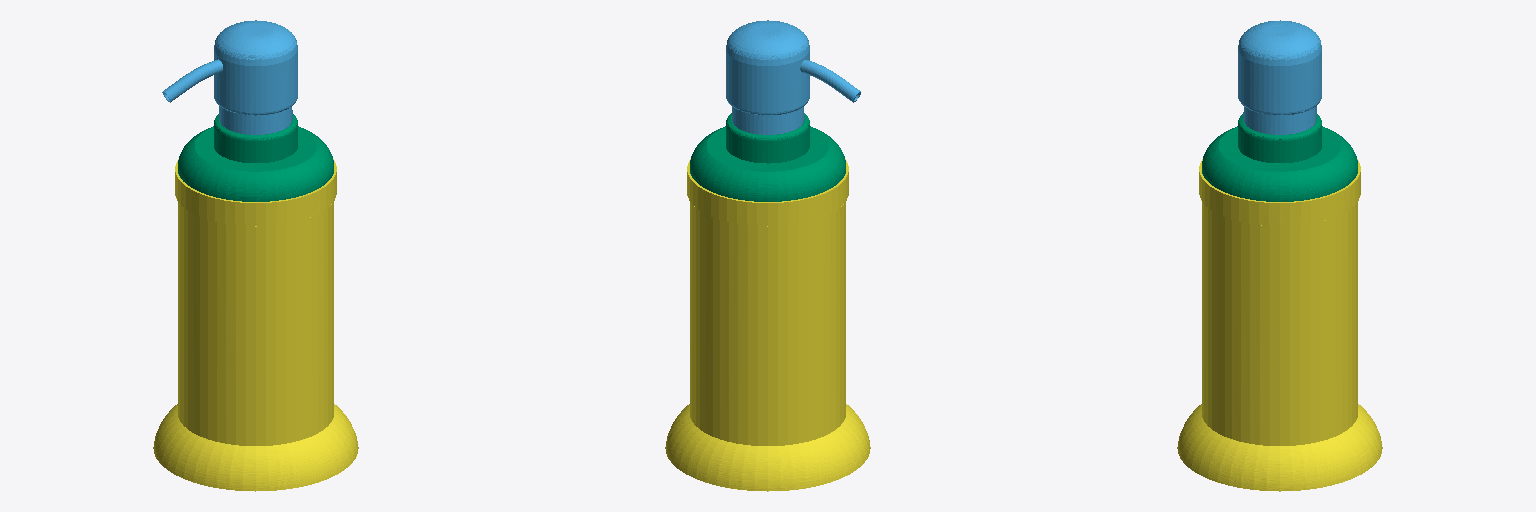
robot.urdf — partnet_0d1d667f-1098-4221-8241-25ae8246c215-2:
<?xml version="1.0" ?>
<robot name="partnet_0d1d667f-1098-4221-8241-25ae8246c215-2">
	<link name="base"/>
	<link name="link_0">
		<visual name="pressing_lid-1">
			<origin xyz="0.0028717371246910713 0 0.00630403397115821"/>
			<geometry>
				<mesh filename="textured_objs/original_10.obj"/>
			</geometry>
		</visual>
		<visual name="pressing_lid-1">
			<origin xyz="0.0028717371246910713 0 0.00630403397115821"/>
			<geometry>
				<mesh filename="textured_objs/original_15.obj"/>
			</geometry>
		</visual>
		<visual name="pressing_lid-1">
			<origin xyz="0.0028717371246910713 0 0.00630403397115821"/>
			<geometry>
				<mesh filename="textured_objs/original_16.obj"/>
			</geometry>
		</visual>
		<collision>
			<origin xyz="0.0028717371246910713 0 0.00630403397115821"/>
			<geometry>
				<mesh filename="textured_objs/original_10.obj"/>
			</geometry>
		</collision>
		<collision>
			<origin xyz="0.0028717371246910713 0 0.00630403397115821"/>
			<geometry>
				<mesh filename="textured_objs/original_15.obj"/>
			</geometry>
		</collision>
		<collision>
			<origin xyz="0.0028717371246910713 0 0.00630403397115821"/>
			<geometry>
				<mesh filename="textured_objs/original_16.obj"/>
			</geometry>
		</collision>
	</link>
	<joint name="joint_0" type="continuous">
		<origin xyz="0.0 0 0.0"/>
		<axis xyz="0 1 0"/>
		<child link="link_0"/>
		<parent link="link_0_helper"/>
	</joint>
	<link name="link_1">
		<visual name="head-3">
			<origin xyz="0.0028717371246910713 0 0.00630403397115821"/>
			<geometry>
				<mesh filename="textured_objs/original_13.obj"/>
			</geometry>
		</visual>
		<visual name="head-3">
			<origin xyz="0.0028717371246910713 0 0.00630403397115821"/>
			<geometry>
				<mesh filename="textured_objs/original_11.obj"/>
			</geometry>
		</visual>
		<collision>
			<origin xyz="0.0028717371246910713 0 0.00630403397115821"/>
			<geometry>
				<mesh filename="textured_objs/original_13.obj"/>
			</geometry>
		</collision>
		<collision>
			<origin xyz="0.0028717371246910713 0 0.00630403397115821"/>
			<geometry>
				<mesh filename="textured_objs/original_11.obj"/>
			</geometry>
		</collision>
	</link>
	<joint name="joint_1" type="continuous">
		<origin xyz="0.0 0 0.0"/>
		<axis xyz="0 1 0"/>
		<child link="link_1"/>
		<parent link="link_1_helper"/>
	</joint>
	<link name="link_2">
		<visual name="base_body-4">
			<origin xyz="0 0 0"/>
			<geometry>
				<mesh filename="textured_objs/original_4.obj"/>
			</geometry>
		</visual>
		<visual name="base_body-4">
			<origin xyz="0 0 0"/>
			<geometry>
				<mesh filename="textured_objs/original_3.obj"/>
			</geometry>
		</visual>
		<visual name="base_body-4">
			<origin xyz="0 0 0"/>
			<geometry>
				<mesh filename="textured_objs/original_2.obj"/>
			</geometry>
		</visual>
		<visual name="base_body-4">
			<origin xyz="0 0 0"/>
			<geometry>
				<mesh filename="textured_objs/original_8.obj"/>
			</geometry>
		</visual>
		<visual name="base_body-4">
			<origin xyz="0 0 0"/>
			<geometry>
				<mesh filename="textured_objs/original_6.obj"/>
			</geometry>
		</visual>
		<visual name="base_body-4">
			<origin xyz="0 0 0"/>
			<geometry>
				<mesh filename="textured_objs/original_12.obj"/>
			</geometry>
		</visual>
		<visual name="base_body-4">
			<origin xyz="0 0 0"/>
			<geometry>
				<mesh filename="textured_objs/original_7.obj"/>
			</geometry>
		</visual>
		<collision>
			<origin xyz="0 0 0"/>
			<geometry>
				<mesh filename="textured_objs/original_4.obj"/>
			</geometry>
		</collision>
		<collision>
			<origin xyz="0 0 0"/>
			<geometry>
				<mesh filename="textured_objs/original_3.obj"/>
			</geometry>
		</collision>
		<collision>
			<origin xyz="0 0 0"/>
			<geometry>
				<mesh filename="textured_objs/original_2.obj"/>
			</geometry>
		</collision>
		<collision>
			<origin xyz="0 0 0"/>
			<geometry>
				<mesh filename="textured_objs/original_8.obj"/>
			</geometry>
		</collision>
		<collision>
			<origin xyz="0 0 0"/>
			<geometry>
				<mesh filename="textured_objs/original_6.obj"/>
			</geometry>
		</collision>
		<collision>
			<origin xyz="0 0 0"/>
			<geometry>
				<mesh filename="textured_objs/original_12.obj"/>
			</geometry>
		</collision>
		<collision>
			<origin xyz="0 0 0"/>
			<geometry>
				<mesh filename="textured_objs/original_7.obj"/>
			</geometry>
		</collision>
	</link>
	<joint name="joint_2" type="fixed">
		<origin rpy="1.570796326794897 0 -1.570796326794897" xyz="0 0 0"/>
		<child link="link_2"/>
		<parent link="base"/>
	</joint>
	<link name="link_0_helper">
		<inertial>
			<origin xyz="0 0 0"/>
			<mass value="1e-6"/>
			<inertia ixx="1e-10" ixy="0" ixz="0" iyy="1e-10" iyz="0" izz="1e-10"/>
		</inertial>
	</link>
	<joint name="joint_3" type="prismatic">
		<origin xyz="0.0 0 0.0"/>
		<axis xyz="0 -1 0"/>
		<child link="link_0_helper"/>
		<parent link="link_1"/>
		<limit lower="0" upper="0.1"/>
	</joint>
	<link name="link_1_helper">
		<inertial>
			<origin xyz="0 0 0"/>
			<mass value="1e-6"/>
			<inertia ixx="1e-10" ixy="0" ixz="0" iyy="1e-10" iyz="0" izz="1e-10"/>
		</inertial>
	</link>
	<joint name="joint_4" type="prismatic">
		<origin xyz="-0.0028717371246910713 0 -0.00630403397115821"/>
		<axis xyz="0 1 0"/>
		<child link="link_1_helper"/>
		<parent link="link_2"/>
		<limit lower="0" upper="0.01"/>
	</joint>
</robot>

--- What the picture shows (computed from the rendered views, not written in the file) ---
3 views of the same robot in one strip: view 1: azimuth 30°, elevation 25°; view 2: azimuth 150°, elevation 25°; view 3: azimuth 270°, elevation 25° (orthographic).
Robot: partnet_0d1d667f-1098-4221-8241-25ae8246c215-2 — 6 links, 5 joints (2 continuous, 2 prismatic, 1 fixed); root link base; default pose: all joints at 0.
Visible links, largest first — view 1: link_2, link_1, link_0; view 2: link_2, link_1, link_0; view 3: link_2, link_1, link_0.
Link boxes in pixels (x1,y1,x2,y2): link_2: (153, 159, 358, 491); link_1: (178, 114, 333, 201); link_0: (162, 20, 297, 134); link_2: (665, 159, 870, 491); link_1: (690, 113, 845, 201); link_0: (726, 20, 860, 134); link_2: (1177, 159, 1382, 491); link_1: (1202, 114, 1357, 201); link_0: (1238, 20, 1321, 134).
Bounding box of the posed robot: 0.7437 × 0.7319 × 1.65 m (x, y, z).
Meshes: 12 distinct files referenced, 12 mesh visuals loaded (12 OBJ).
